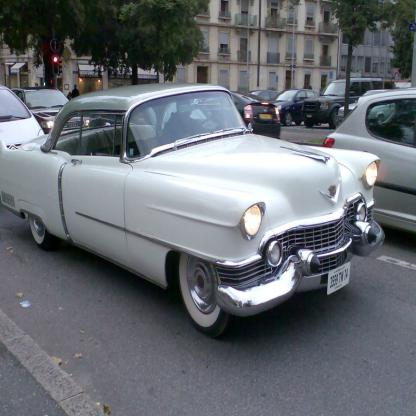Car: (0, 81, 386, 338), (322, 87, 415, 235), (9, 86, 91, 134), (318, 77, 386, 128), (0, 83, 45, 152), (231, 91, 280, 140), (266, 89, 320, 127), (245, 90, 279, 104)
